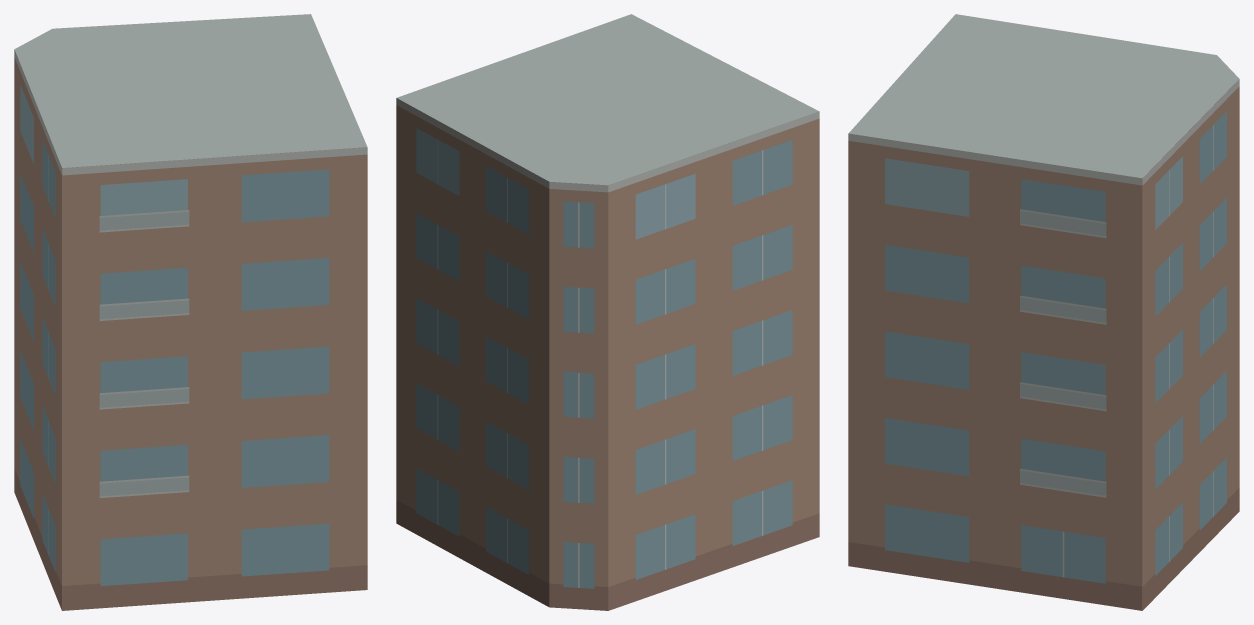
The model's file is survey-upis-32671064.glb.
3 renders of one model, left to right at view 1: azimuth 30°, elevation 25°; view 2: azimuth 150°, elevation 25°; view 3: azimuth 270°, elevation 25°, orthographic. The views are drawn at different scales.
Parts seen in each view (by area): view 1: survey-upis-32671064.tmp; view 2: survey-upis-32671064.tmp; view 3: survey-upis-32671064.tmp.
Part boxes in pixels (x1,y1,x2,y2): survey-upis-32671064.tmp: (14, 14, 367, 610); survey-upis-32671064.tmp: (396, 14, 819, 610); survey-upis-32671064.tmp: (848, 14, 1239, 610).
Size of the model in its own units: 11.9 by 14.6 by 11.97.
